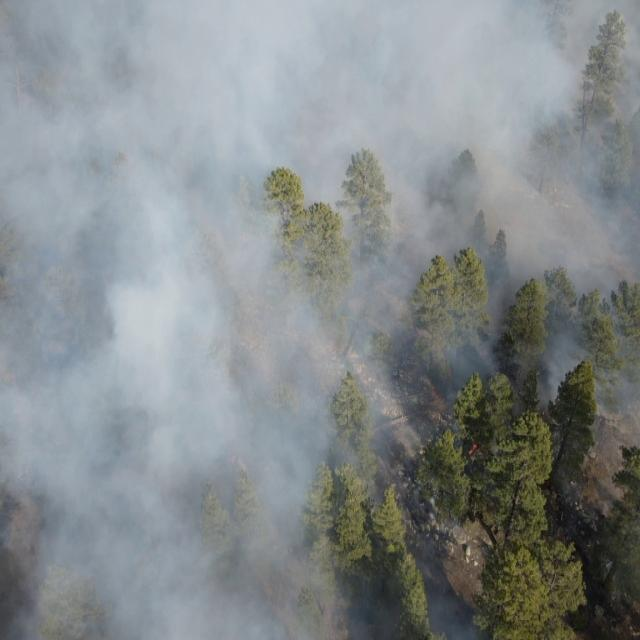fire: (463, 432, 485, 460)
smoke: (1, 0, 640, 408), (0, 407, 428, 640), (553, 410, 640, 532), (432, 562, 485, 640)
